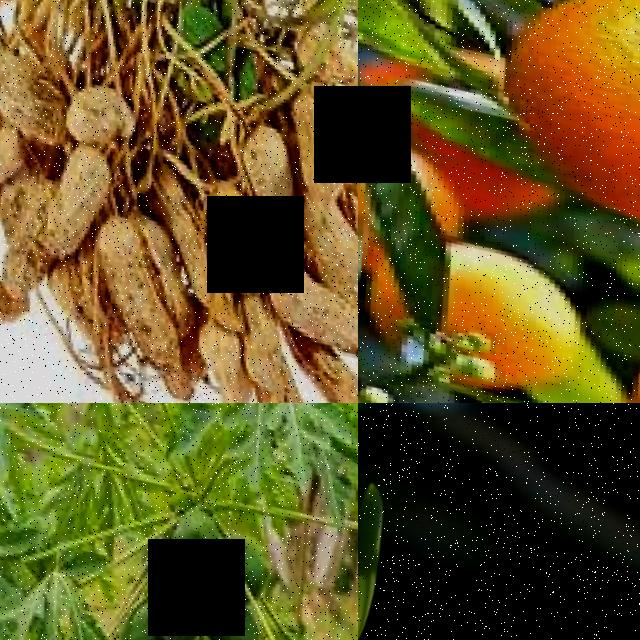orange: (487, 0, 640, 266)
pawpaw: (137, 555, 207, 640), (208, 526, 270, 603), (164, 496, 225, 569), (192, 595, 259, 640)
peanuts: (31, 134, 113, 261), (274, 79, 354, 200), (254, 258, 358, 349), (191, 168, 268, 286), (229, 111, 299, 240), (0, 169, 55, 307), (282, 188, 358, 277), (57, 69, 140, 145), (176, 311, 243, 403), (0, 41, 67, 131), (290, 330, 358, 403)
